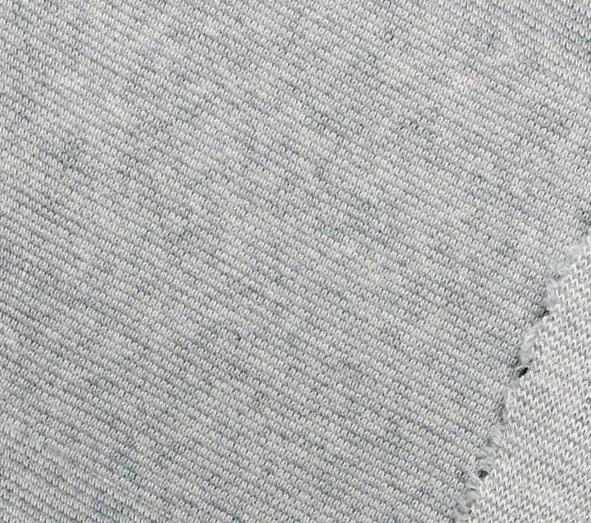slub: (443, 218, 591, 523)
